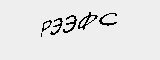Р: (39, 17, 52, 39)
С: (98, 9, 118, 29)
Ф: (78, 11, 98, 34)
Э: (49, 15, 62, 40), (63, 11, 77, 34)
